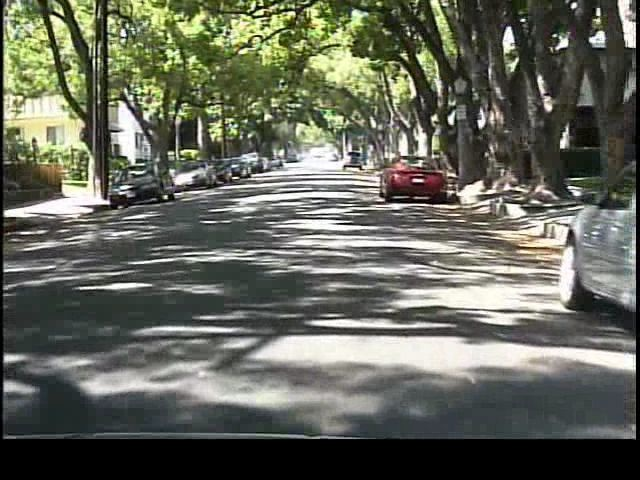person: (148, 146, 168, 188)
